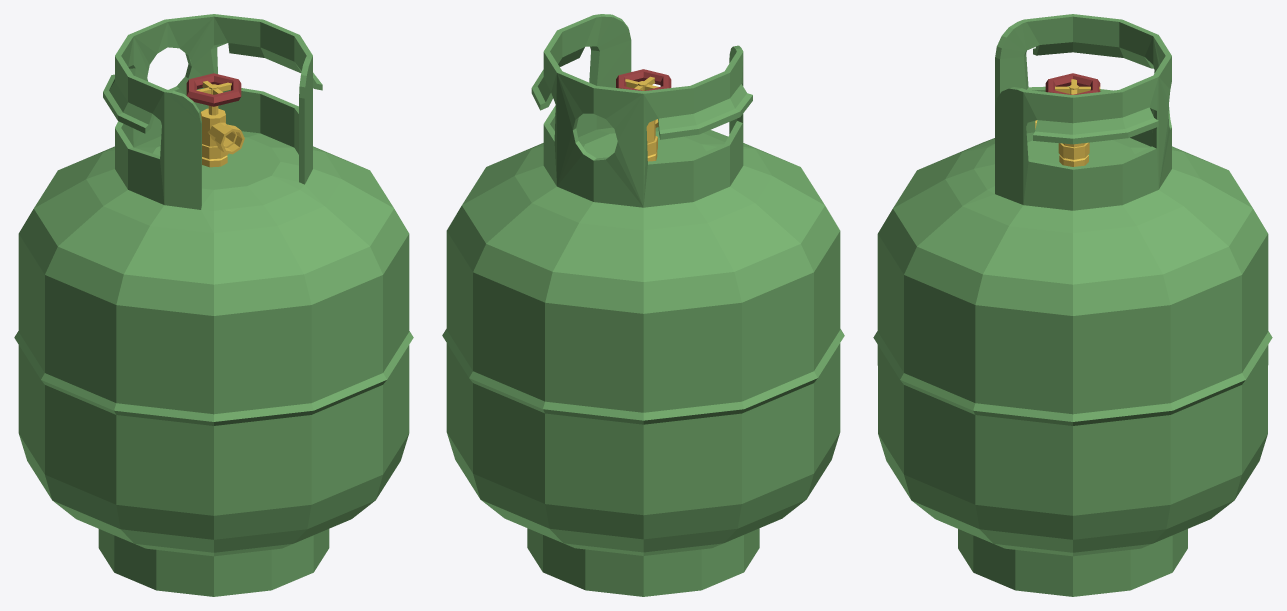
File: Gas Cylinder.fbx
3 renders of one model, left to right at view 1: azimuth 30°, elevation 25°; view 2: azimuth 150°, elevation 25°; view 3: azimuth 270°, elevation 25°, orthographic.
Parts seen in each view (by area): view 1: Gas Cylinder; view 2: Gas Cylinder; view 3: Gas Cylinder.
Part boxes in pixels (x1,y1,x2,y2): Gas Cylinder: (14,14,413,596); Gas Cylinder: (442,14,844,596); Gas Cylinder: (873,14,1272,596).
Bounding box in the file's own units: 49.56 × 67.39 × 49.53.
